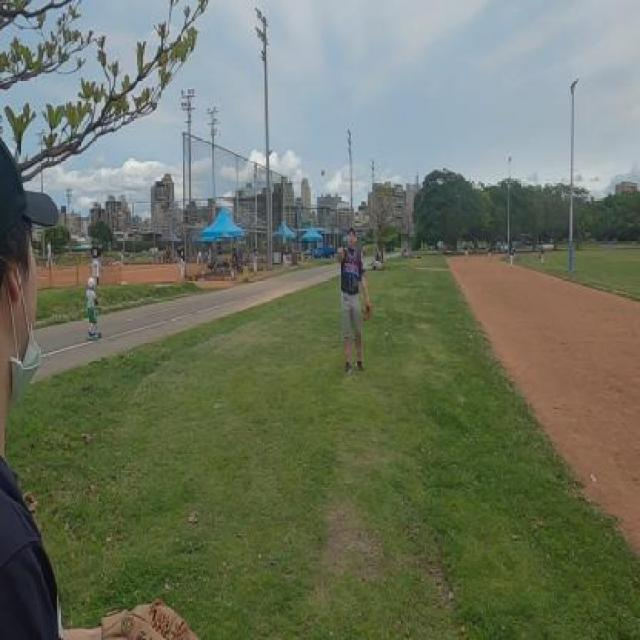baseball: (321, 169, 325, 176)
